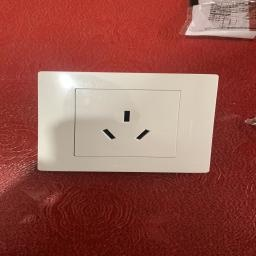outlet: (32, 64, 228, 182)
